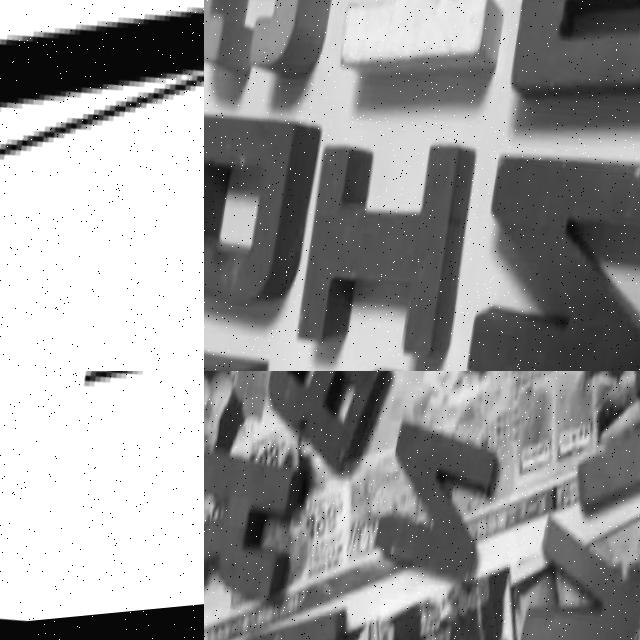B: (257, 371, 392, 478)
C: (204, 0, 349, 95)
D: (204, 105, 309, 322)
H: (333, 0, 524, 105)
I: (288, 137, 477, 371)
J: (566, 371, 640, 530)
K: (204, 442, 299, 615)
M: (497, 0, 640, 144)
N: (456, 140, 640, 371), (370, 420, 502, 592)
V: (0, 0, 204, 327), (510, 515, 640, 640)
